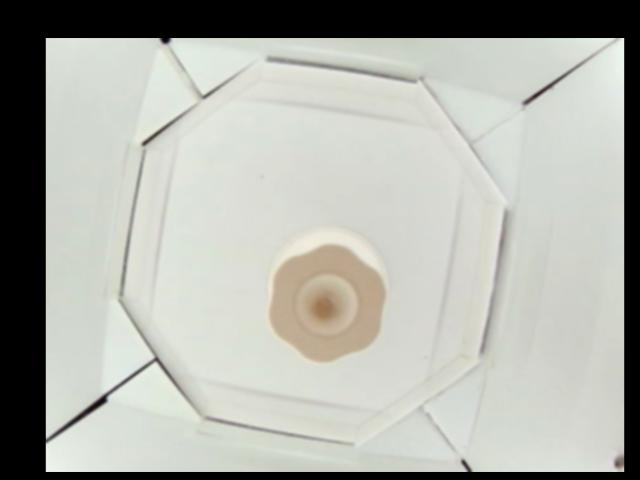Cup: (266, 228, 384, 367)
